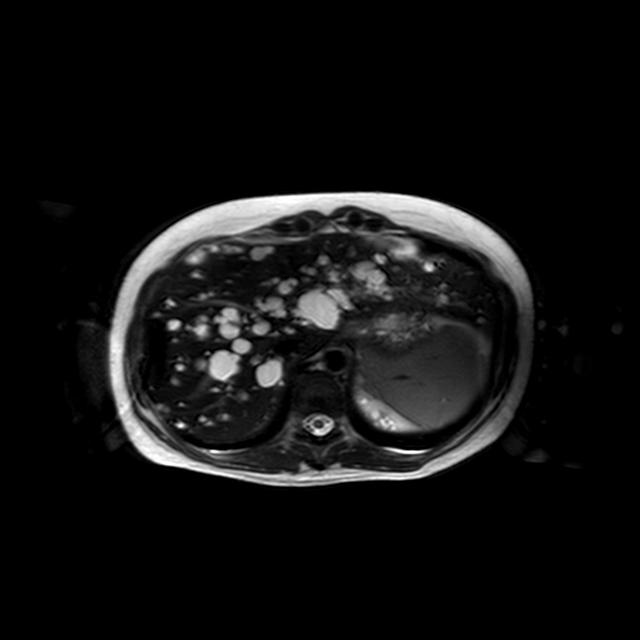sol: (354, 390, 404, 430)
